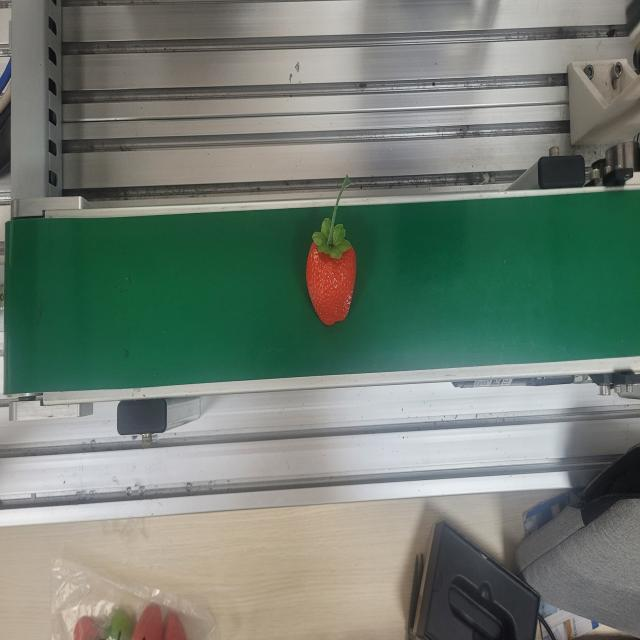Large Ripe Strawberry: (304, 214, 358, 329)
conveyor: (2, 188, 638, 392)
